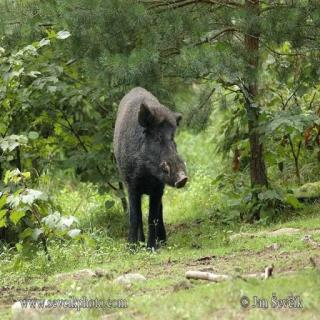Pig: (100, 67, 245, 250)
